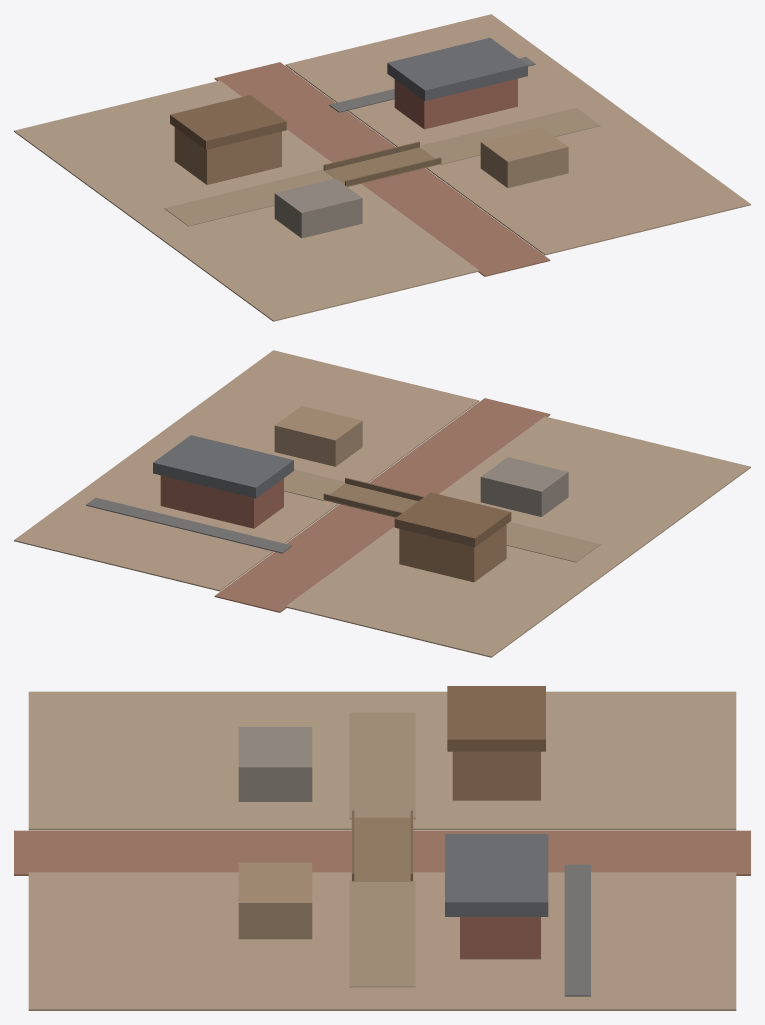
The model's file is red_river_town.glb.
The picture shows the model from 3 angles, top to bottom: view 1: azimuth 30°, elevation 25°; view 2: azimuth 150°, elevation 25°; view 3: azimuth 270°, elevation 25°; orthographic projection. The views are drawn at different scales.
Visible parts, largest first — view 1: 赤河西岸台地（酒馆区）, 赤河东岸台地（车站区）, 赤河河道水面, 火车站坡屋顶与站台雨棚, 治安官办公室与邮局, 酒馆二层木廊台与招牌檐, 西部铁匠铺与补给行, 赤河西部酒馆（Saloon）, 赤河火车站主站房, 西部主街（西段 · 酒馆门前）, 西部主街（东段 · 车站门前）, 赤河木石主桥桥面 (+3 smaller); view 2: 赤河西岸台地（酒馆区）, 赤河东岸台地（车站区）, 赤河河道水面, 火车站坡屋顶与站台雨棚, 治安官办公室与邮局, 酒馆二层木廊台与招牌檐, 西部铁匠铺与补给行, 赤河西部酒馆（Saloon）, 赤河火车站主站房, 赤河火车站铁轨与枕木路基, 西部主街（西段 · 酒馆门前）, 赤河木石主桥桥面 (+1 smaller); view 3: 赤河西岸台地（酒馆区）, 赤河东岸台地（车站区）, 赤河河道水面, 火车站坡屋顶与站台雨棚, 西部主街（东段 · 车站门前）, 西部主街（西段 · 酒馆门前）, 酒馆二层木廊台与招牌檐, 治安官办公室与邮局, 西部铁匠铺与补给行, 赤河西部酒馆（Saloon）, 赤河木石主桥桥面, 赤河火车站铁轨与枕木路基 (+1 smaller).
Part boxes in pixels (x1,y1,x2,y2): 赤河西岸台地（酒馆区）: (14, 80, 479, 321); 赤河东岸台地（车站区）: (285, 14, 750, 255); 赤河河道水面: (214, 62, 550, 276); 火车站坡屋顶与站台雨棚: (387, 38, 527, 101); 治安官办公室与邮局: (480, 127, 568, 187); 酒馆二层木廊台与招牌檐: (170, 95, 286, 149); 西部铁匠铺与补给行: (274, 178, 362, 238); 赤河西部酒馆（Saloon）: (174, 127, 281, 184); 赤河火车站主站房: (394, 78, 517, 129); 西部主街（西段 · 酒馆门前）: (164, 169, 334, 226); 西部主街（东段 · 车站门前）: (420, 107, 600, 164); 赤河木石主桥桥面: (324, 147, 441, 186); 赤河西岸台地（酒馆区）: (285, 416, 750, 657); 赤河东岸台地（车站区）: (14, 350, 479, 591); 赤河河道水面: (214, 398, 550, 612); 火车站坡屋顶与站台雨棚: (153, 435, 293, 498); 治安官办公室与邮局: (274, 406, 362, 466); 酒馆二层木廊台与招牌檐: (394, 492, 511, 547); 西部铁匠铺与补给行: (480, 457, 568, 516); 赤河西部酒馆（Saloon）: (399, 524, 506, 582); 赤河火车站主站房: (160, 475, 283, 528); 赤河火车站铁轨与枕木路基: (86, 497, 292, 553); 西部主街（西段 · 酒馆门前）: (506, 522, 600, 562); 赤河木石主桥桥面: (323, 483, 417, 517); 赤河西岸台地（酒馆区）: (28, 691, 736, 830); 赤河东岸台地（车站区）: (28, 872, 736, 1010); 赤河河道水面: (14, 830, 750, 875); 火车站坡屋顶与站台雨棚: (445, 834, 548, 916); 西部主街（东段 · 车站门前）: (349, 880, 415, 987); 西部主街（西段 · 酒馆门前）: (349, 712, 415, 819); 酒馆二层木廊台与招牌檐: (447, 686, 545, 751); 治安官办公室与邮局: (238, 862, 312, 939); 西部铁匠铺与补给行: (238, 727, 312, 801); 赤河西部酒馆（Saloon）: (452, 751, 540, 800); 赤河木石主桥桥面: (351, 817, 413, 881); 赤河火车站铁轨与枕木路基: (564, 864, 590, 996).
Bounding box in the file's own units: 102 × 9.94 × 100.
